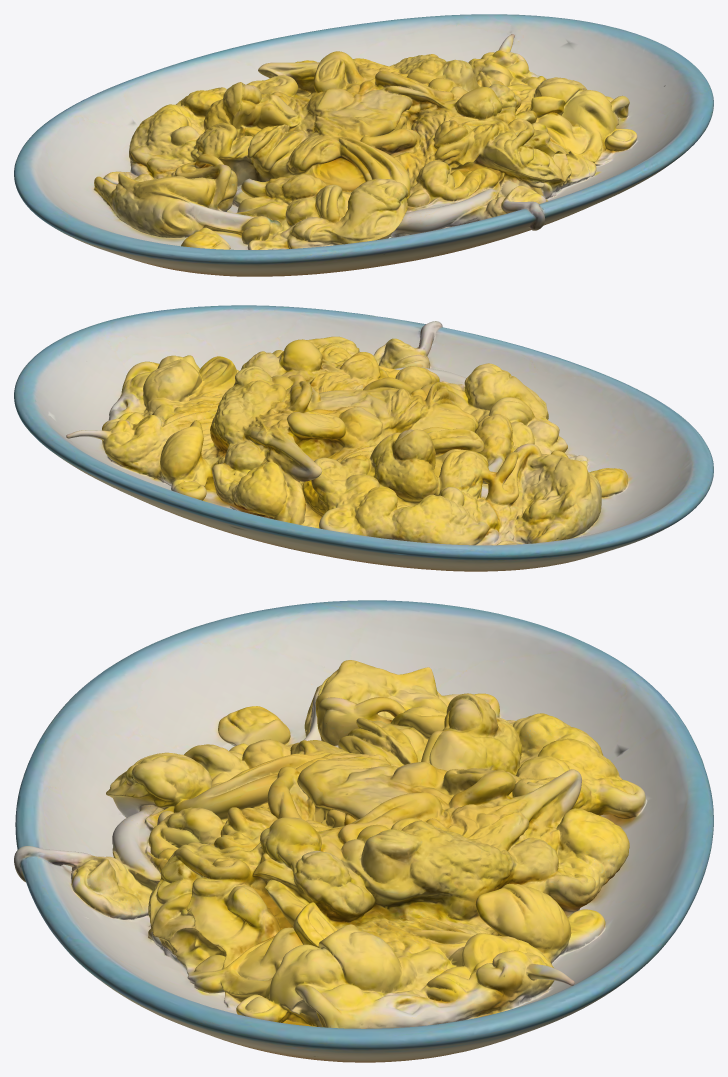
Rendered from Scrambled Eggs with Whitebait.glb.
3 renders of one model, top to bottom at view 1: azimuth 30°, elevation 25°; view 2: azimuth 150°, elevation 25°; view 3: azimuth 270°, elevation 25°, orthographic. The views are drawn at different scales.
Visible parts, largest first — view 1: material; view 2: material; view 3: material.
Part boxes in pixels (left/top/right/bottom): material: left=14, top=14, right=713, bottom=276; material: left=14, top=305, right=713, bottom=571; material: left=14, top=600, right=713, bottom=1062.
Bounding box in the file's own units: 1.2 × 0.1772 × 0.8035.
Materials: 1 (1 with a texture image).
